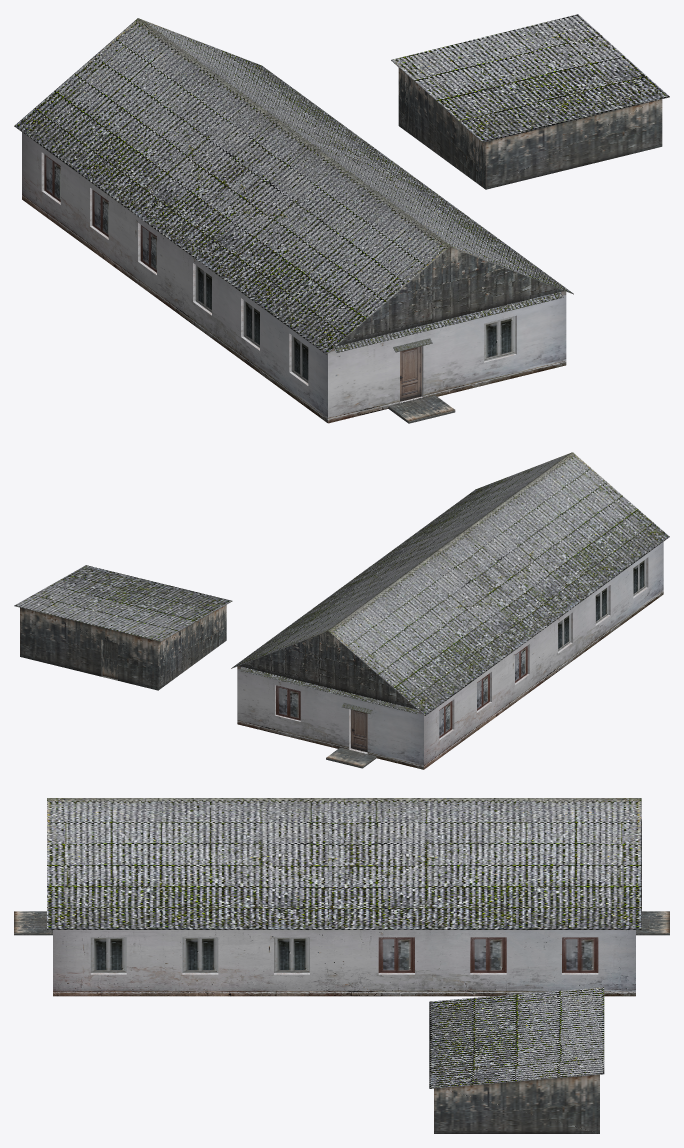
Rendered from r402_tushnolobovo_dom3.FBX.
The picture shows the model from 3 angles, top to bottom: view 1: azimuth 30°, elevation 25°; view 2: azimuth 150°, elevation 25°; view 3: azimuth 270°, elevation 25°; orthographic projection. The views are drawn at different scales.
Visible parts, largest first — view 1: 1, 2; view 2: 1, 2; view 3: 1, 2.
Boxes of the visible parts, x1=… form: 1: x1=14, y1=18, x2=573, y2=423; 2: x1=391, y1=14, x2=669, y2=189; 1: x1=231, y1=452, x2=669, y2=769; 2: x1=14, y1=565, x2=232, y2=690; 1: x1=14, y1=798, x2=669, y2=996; 2: x1=429, y1=987, x2=604, y2=1133.
Size of the model in its own units: 22.86 by 25.04 by 6.02.
